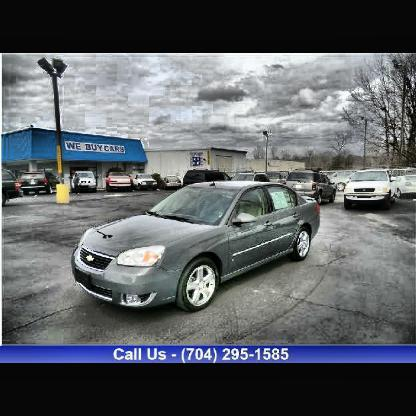Chevrolet Malibu Sedan 2007: (75, 183, 321, 315)
